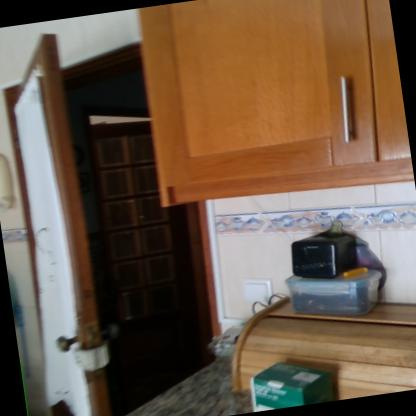semi: (0, 10, 217, 415)
